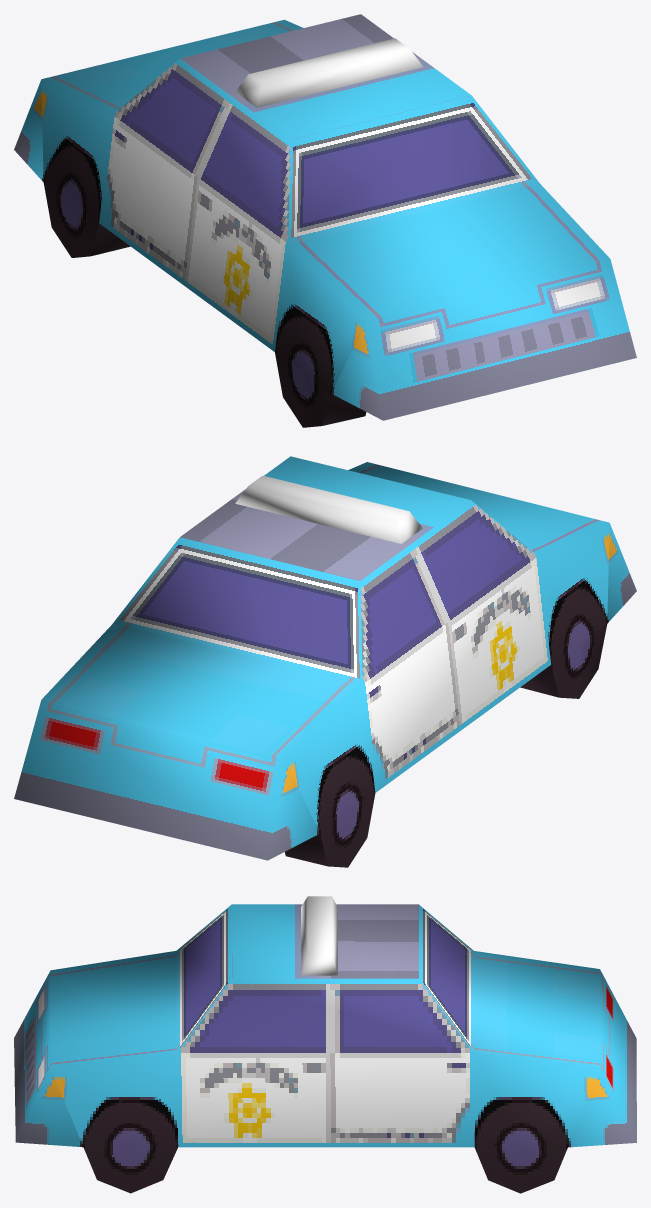
Rendered from copcar.obj.
3 views of the same model, one above another, from view 1: azimuth 30°, elevation 25°; view 2: azimuth 150°, elevation 25°; view 3: azimuth 270°, elevation 25° (orthographic). The views are drawn at different scales.
Parts seen in each view (by area): view 1: DrawCall_35, DrawCall_38, DrawCall_32, DrawCall_36; view 2: DrawCall_32, DrawCall_38, DrawCall_35, DrawCall_36; view 3: DrawCall_37, DrawCall_35, DrawCall_36, DrawCall_32.
Part boxes in pixels (x1,y1,x2,y2): DrawCall_35: [180, 14, 636, 420]; DrawCall_38: [99, 58, 290, 351]; DrawCall_32: [41, 19, 539, 244]; DrawCall_36: [14, 79, 383, 427]; DrawCall_32: [14, 537, 362, 860]; DrawCall_38: [360, 500, 550, 792]; DrawCall_35: [180, 456, 608, 580]; DrawCall_36: [268, 523, 636, 867]; DrawCall_37: [177, 978, 474, 1147]; DrawCall_35: [14, 896, 418, 1141]; DrawCall_36: [16, 1054, 636, 1193]; DrawCall_32: [176, 904, 636, 1142].
Size of the model in its own units: 11.75 by 10.09 by 27.12.
5 materials, 5 textured.
